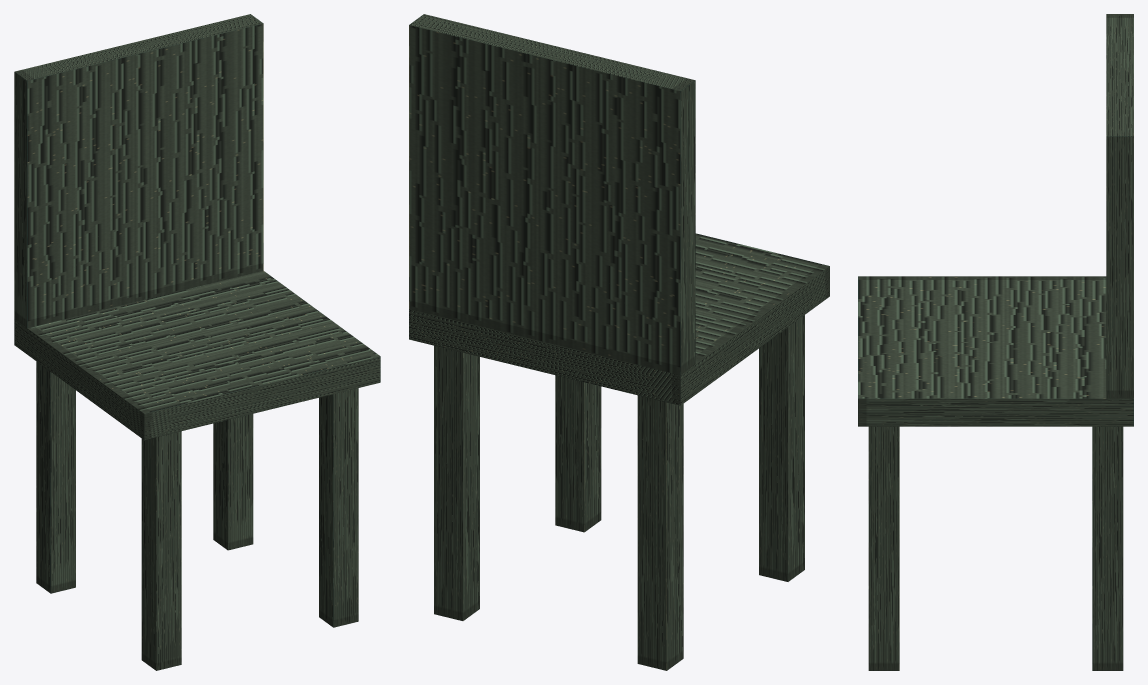
The model's file is SM_Forest_Chair_Ritual_40x40x90.fbx.
3 views of the same model, side by side, from view 1: azimuth 30°, elevation 25°; view 2: azimuth 150°, elevation 25°; view 3: azimuth 270°, elevation 25° (orthographic). The views are drawn at different scales.
Visible parts, largest first — view 1: SM_Forest_Chair_Ritual_40x40x90.001; view 2: SM_Forest_Chair_Ritual_40x40x90.001; view 3: SM_Forest_Chair_Ritual_40x40x90.001.
Part boxes in pixels (x1,y1,x2,y2): SM_Forest_Chair_Ritual_40x40x90.001: [14, 14, 380, 670]; SM_Forest_Chair_Ritual_40x40x90.001: [409, 14, 829, 670]; SM_Forest_Chair_Ritual_40x40x90.001: [858, 14, 1133, 670].
Bounding box in the file's own units: 0.42 × 0.87 × 0.4.
